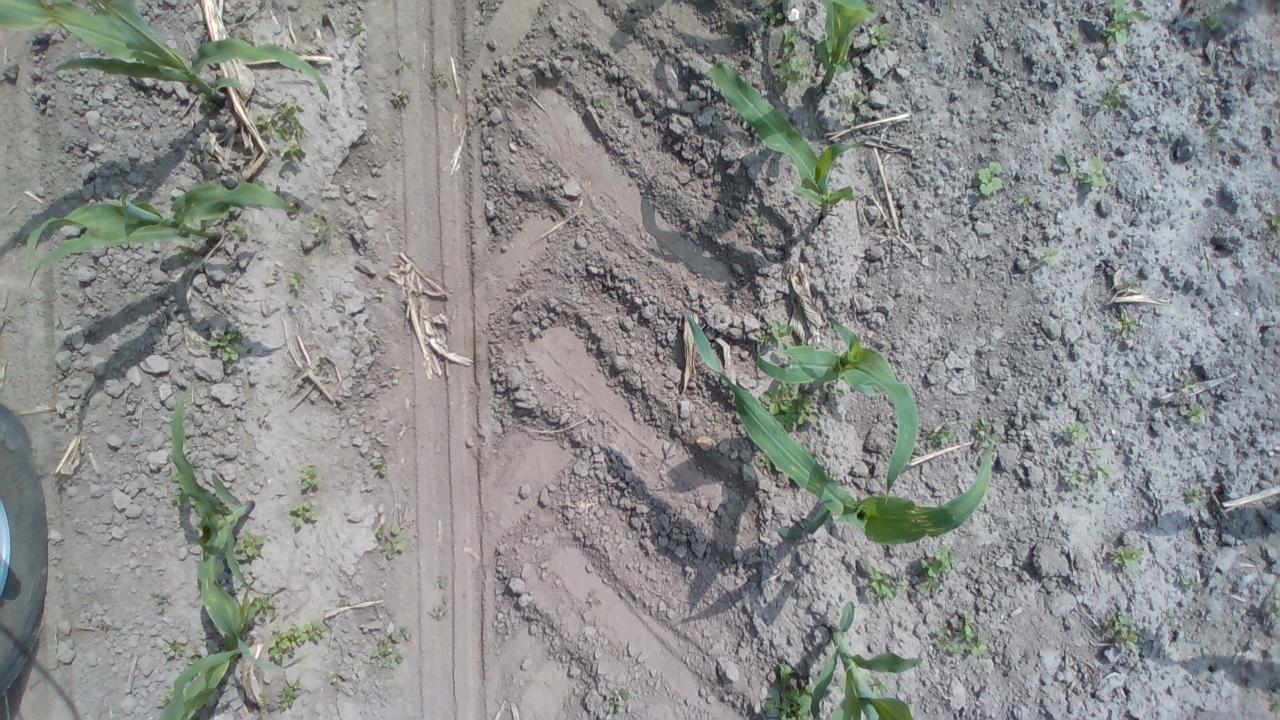Maize: (678, 310, 1006, 574), (166, 383, 300, 676), (1, 0, 334, 110), (15, 177, 301, 296), (750, 317, 922, 514), (701, 62, 877, 223), (158, 547, 260, 720), (806, 603, 929, 720), (798, 0, 892, 97)
Weeds: (754, 656, 826, 720), (254, 97, 316, 164), (759, 379, 824, 434), (928, 608, 988, 660), (266, 619, 329, 668), (912, 546, 964, 602), (770, 27, 811, 86), (1064, 444, 1110, 495), (1059, 145, 1108, 192), (1103, 2, 1151, 49), (862, 560, 907, 606), (371, 624, 413, 672), (1099, 608, 1138, 655), (966, 414, 1004, 461), (372, 523, 411, 566), (206, 330, 248, 368), (972, 158, 1007, 200), (751, 314, 792, 349), (921, 416, 964, 448), (232, 530, 270, 566), (267, 680, 308, 713), (165, 472, 196, 512), (288, 498, 325, 530), (1106, 541, 1144, 572), (249, 590, 281, 626), (1096, 71, 1120, 114), (1056, 416, 1092, 444), (297, 464, 325, 499), (865, 18, 894, 51), (604, 685, 634, 714), (1178, 399, 1210, 426), (1114, 309, 1140, 340), (366, 450, 388, 485), (588, 94, 616, 120), (159, 638, 186, 664), (1180, 482, 1208, 507), (310, 209, 330, 244), (748, 214, 775, 238), (228, 217, 252, 244), (385, 84, 413, 107), (756, 6, 785, 28), (389, 50, 414, 75), (1014, 191, 1040, 213), (428, 66, 451, 90), (307, 354, 332, 376), (1038, 248, 1065, 268), (288, 270, 306, 300), (154, 688, 180, 708), (1177, 573, 1203, 593), (1264, 208, 1280, 240), (346, 17, 369, 36), (870, 676, 891, 696), (430, 573, 450, 593), (1123, 276, 1145, 294), (429, 606, 450, 624), (1205, 12, 1222, 34), (847, 93, 870, 108), (366, 332, 381, 352), (1266, 597, 1280, 617), (846, 113, 863, 128), (350, 338, 362, 356), (382, 376, 401, 386)
